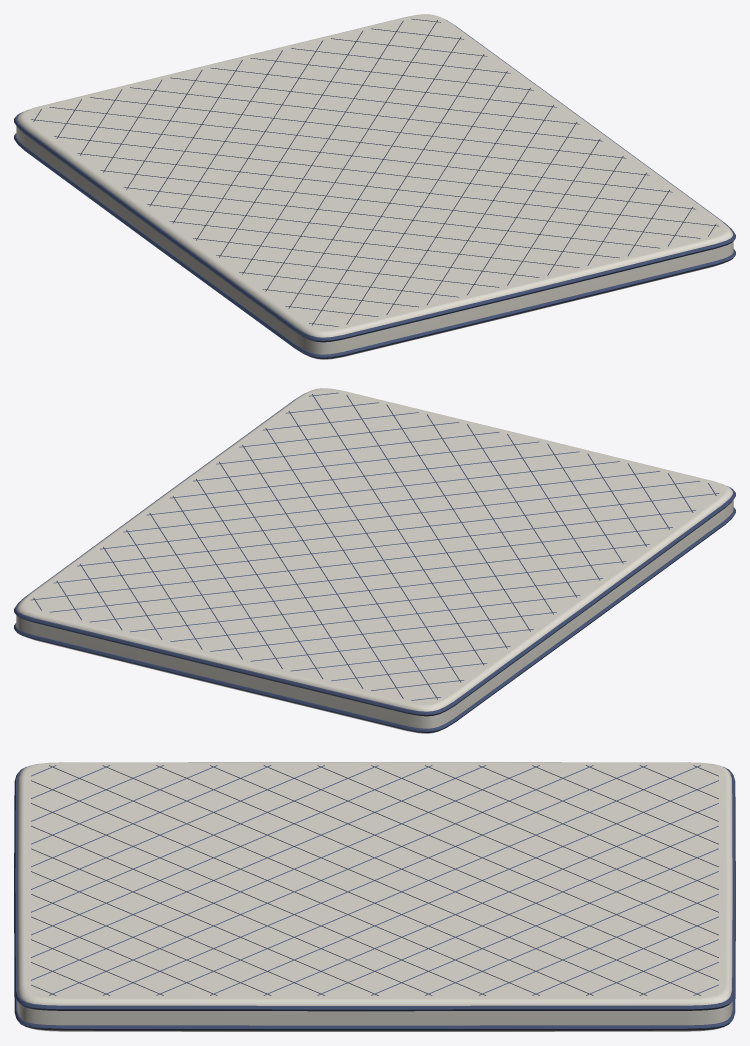
File: nem_cao_su_160.glb
3 renders of one model, top to bottom at view 1: azimuth 30°, elevation 25°; view 2: azimuth 150°, elevation 25°; view 3: azimuth 270°, elevation 25°, orthographic. The views are drawn at different scales.
Visible parts, largest first — view 1: nem_cao_su_160; view 2: nem_cao_su_160; view 3: nem_cao_su_160.
Boxes of the visible parts, x1=… form: nem_cao_su_160: x1=14, y1=14, x2=735, y2=359; nem_cao_su_160: x1=14, y1=388, x2=735, y2=733; nem_cao_su_160: x1=14, y1=762, x2=735, y2=1031.
Size of the model in its own units: 1.62 by 0.1018 by 2.02.
